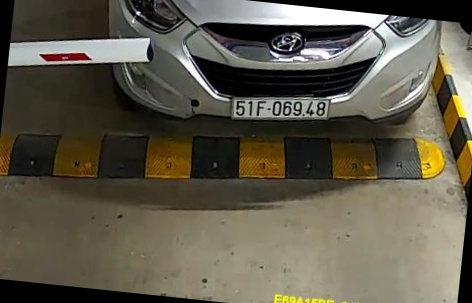plate: (234, 91, 333, 127)
